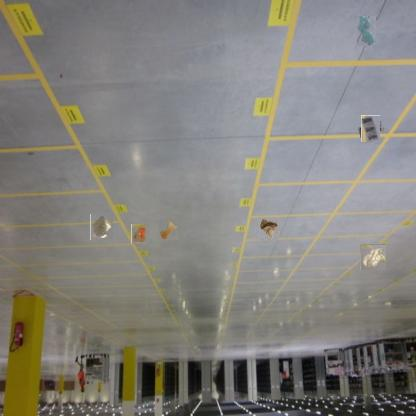dirty: (360, 244, 386, 270), (90, 214, 113, 240), (359, 117, 382, 140), (258, 218, 280, 240), (131, 225, 149, 244)
liquid: (358, 16, 378, 46), (159, 219, 180, 239)
